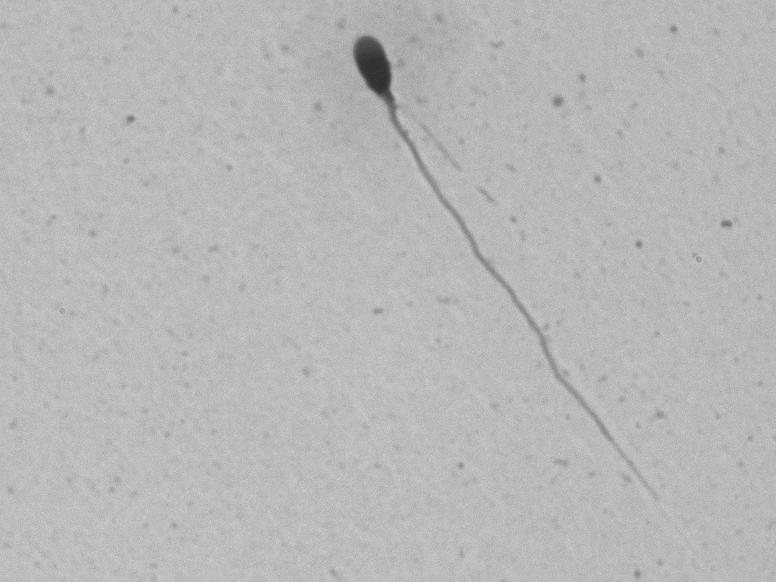Normal: (304, 26, 678, 512)
